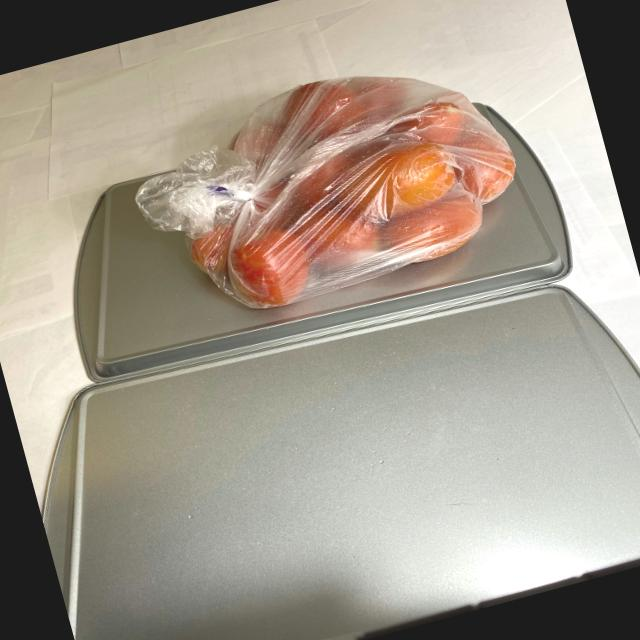tomato: (155, 33, 538, 317)
